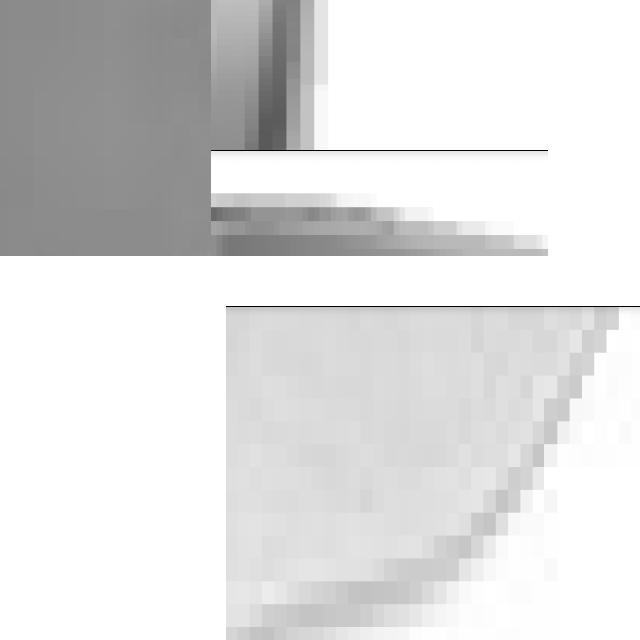forks: (272, 260, 640, 640), (211, 54, 452, 256)
spoons: (0, 0, 211, 256)
